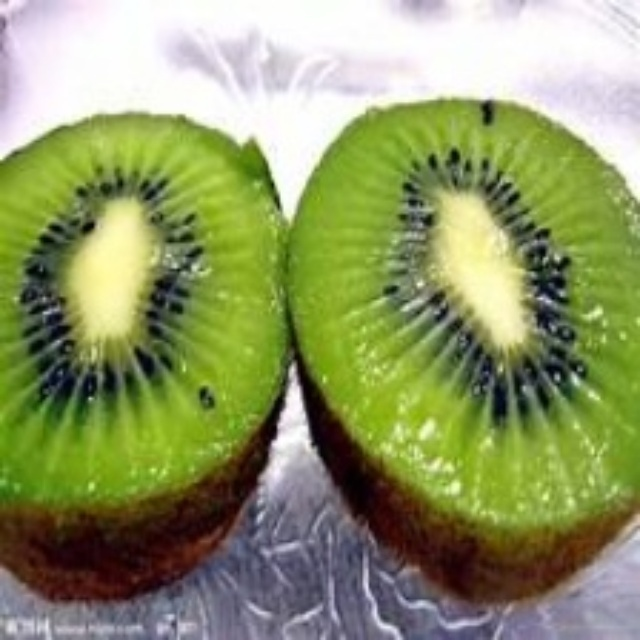kiwi: (294, 92, 639, 579), (2, 116, 284, 603)
